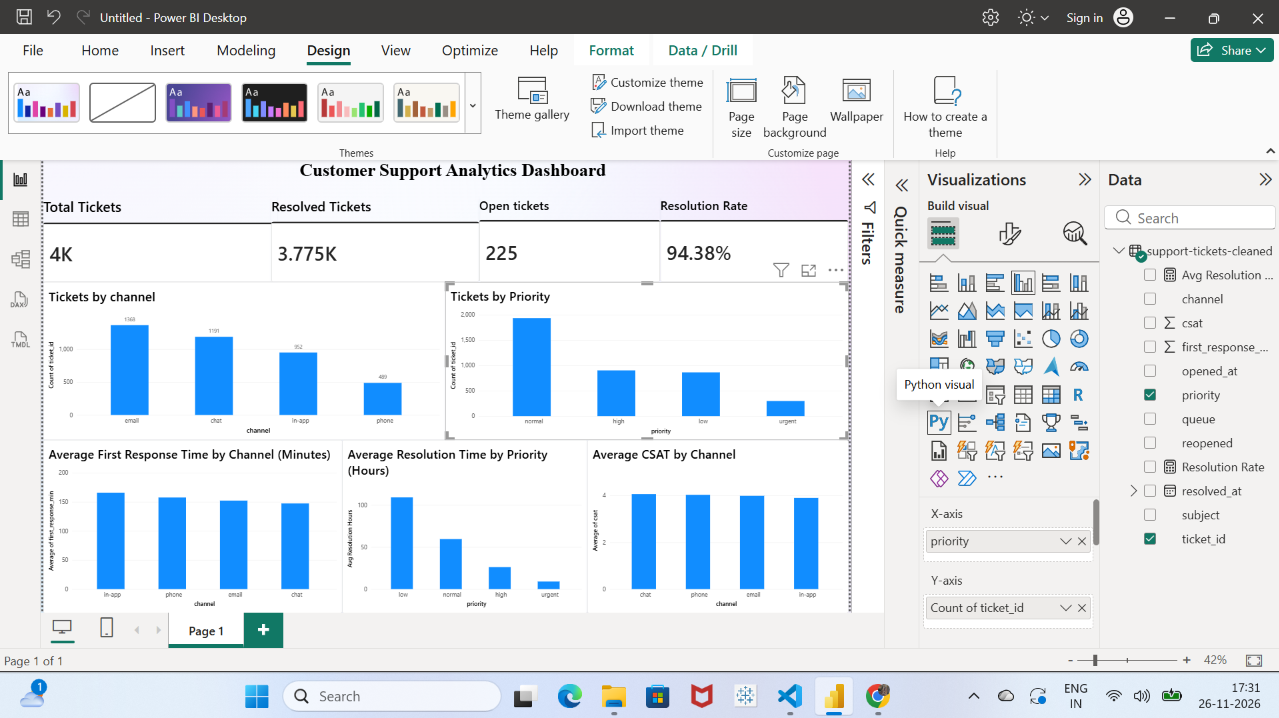

The page's visual inventory and layout, read from the dashboard file:
{"tool":"powerbi","page":{"name":"Page 1","canvas":[1920,1080],"ordinal":0},"visuals":[{"type":"cardVisual","title":"Total Tickets","fields":{"Data":["Count(support-tickets-cleaned.ticket_id)"]},"box":[0,88.3,558.3,202.8],"z":0},{"type":"cardVisual","title":"Resolved Tickets","fields":{"Data":["CountNonNull(support-tickets-cleaned.resolved_at)"]},"box":[544,88.3,496.3,202.8],"z":1000},{"type":"cardVisual","title":"Open tickets","fields":{"Data":["CountNonNull(support-tickets-cleaned.ticket_id)"]},"box":[1040.3,88.3,431.9,202.8],"z":2000},{"type":"cardVisual","title":"Resolution Rate","fields":{"Data":["support-tickets-cleaned.Resolution Rate"]},"box":[1472.1,88.3,448.6,202.8],"z":3000},{"type":"clusteredColumnChart","title":"Tickets by channel","fields":{"Category":["support-tickets-cleaned.channel"],"Y":["CountNonNull(support-tickets-cleaned.ticket_id)"]},"box":[0,291.1,959.1,377],"z":4000},{"type":"clusteredColumnChart","title":"Tickets by Priority","fields":{"Category":["support-tickets-cleaned.priority"],"Y":["CountNonNull(support-tickets-cleaned.ticket_id)"]},"box":[959.1,291.1,961.5,377],"z":5000},{"type":"clusteredColumnChart","title":"Average First Response Time by Channel (Minutes)","fields":{"Category":["support-tickets-cleaned.channel"],"Y":["Avg(support-tickets-cleaned.first_response_min)"]},"box":[0,668.1,713.4,412.8],"z":6000},{"type":"clusteredColumnChart","title":"Average Resolution Time by Priority (Hours)","fields":{"Category":["support-tickets-cleaned.priority"],"Y":["support-tickets-cleaned.Avg Resolution Hours"]},"box":[713.4,668.1,584.5,412.8],"z":7000},{"type":"clusteredColumnChart","title":"Average CSAT by Channel","fields":{"Category":["support-tickets-cleaned.channel"],"Y":["Avg(support-tickets-cleaned.csat)"]},"box":[1297.9,668.1,622.7,412.8],"z":8000},{"type":"textbox","box":[100.2,0,1753.6,52.5],"z":9000}]}

Visuals, with their boxes on the page's 1920x1080 design canvas (x1, y1, x2, y2). These are canvas units, not pixel positions in the 1279x718 screenshot, which may show the page scaled, cropped or inside an application window:
"Total Tickets" cardVisual: [0,88,558,291]
"Resolved Tickets" cardVisual: [544,88,1040,291]
"Open tickets" cardVisual: [1040,88,1472,291]
"Resolution Rate" cardVisual: [1472,88,1921,291]
"Tickets by channel" clusteredColumnChart: [0,291,959,668]
"Tickets by Priority" clusteredColumnChart: [959,291,1921,668]
"Average First Response Time by Channel (Minutes)" clusteredColumnChart: [0,668,713,1081]
"Average Resolution Time by Priority (Hours)" clusteredColumnChart: [713,668,1298,1081]
"Average CSAT by Channel" clusteredColumnChart: [1298,668,1921,1081]
textbox: [100,0,1854,52]
